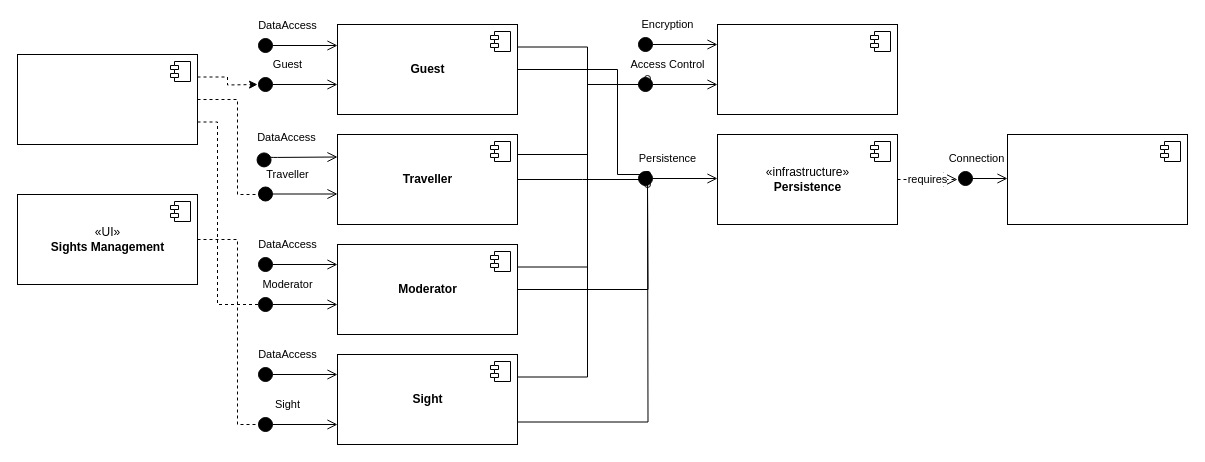
Image size: 1205x462. Some labels were removed from this diagram. Each missing label, with the centre of its shape:
«DB» TravellingONDB: the point at 1097,179
«infrastructure» Security: the point at 807,69
«UI» Authentication: the point at 107,99
